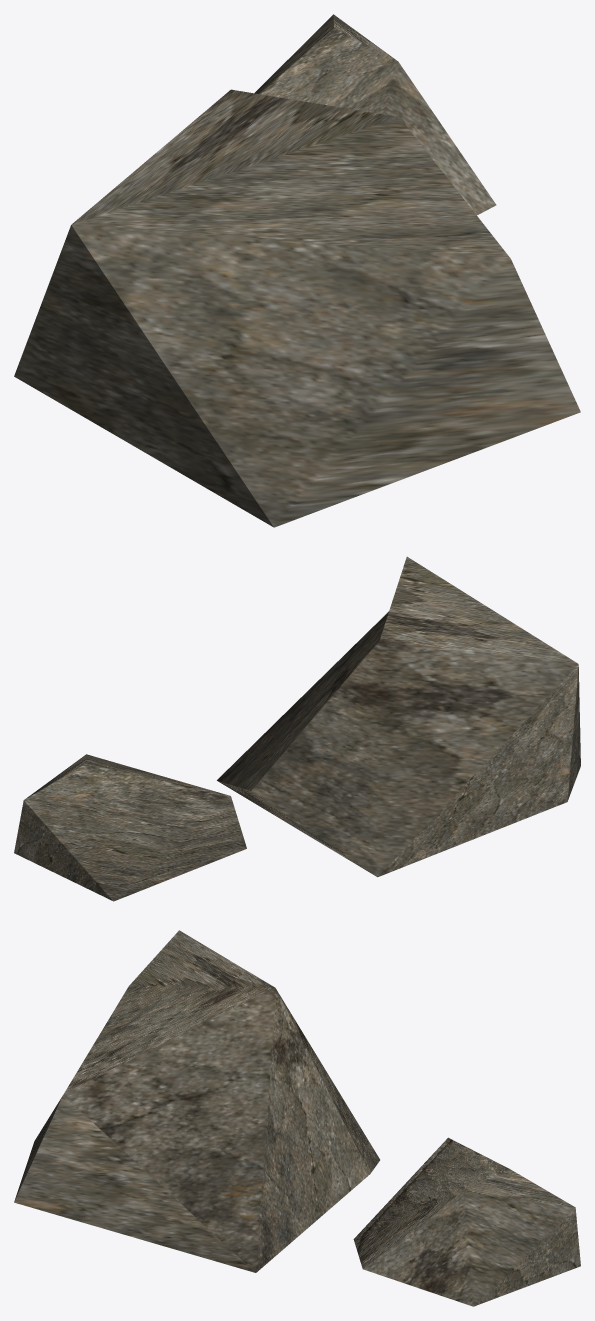
Rendered from mm9_deco_stonedebris02.glb.
3 renders of one model, top to bottom at view 1: azimuth 30°, elevation 25°; view 2: azimuth 150°, elevation 25°; view 3: azimuth 270°, elevation 25°, orthographic. The views are drawn at different scales.
Visible parts, largest first — view 1: Stonedebris02; view 2: Stonedebris02; view 3: Stonedebris02.
Boxes of the visible parts, <box> form: Stonedebris02: <box>14,14,580,527</box>; Stonedebris02: <box>14,556,580,901</box>; Stonedebris02: <box>14,930,580,1306</box>.
Size of the model in its own units: 1.45 by 0.7217 by 1.68.
1 material, 1 textured.
